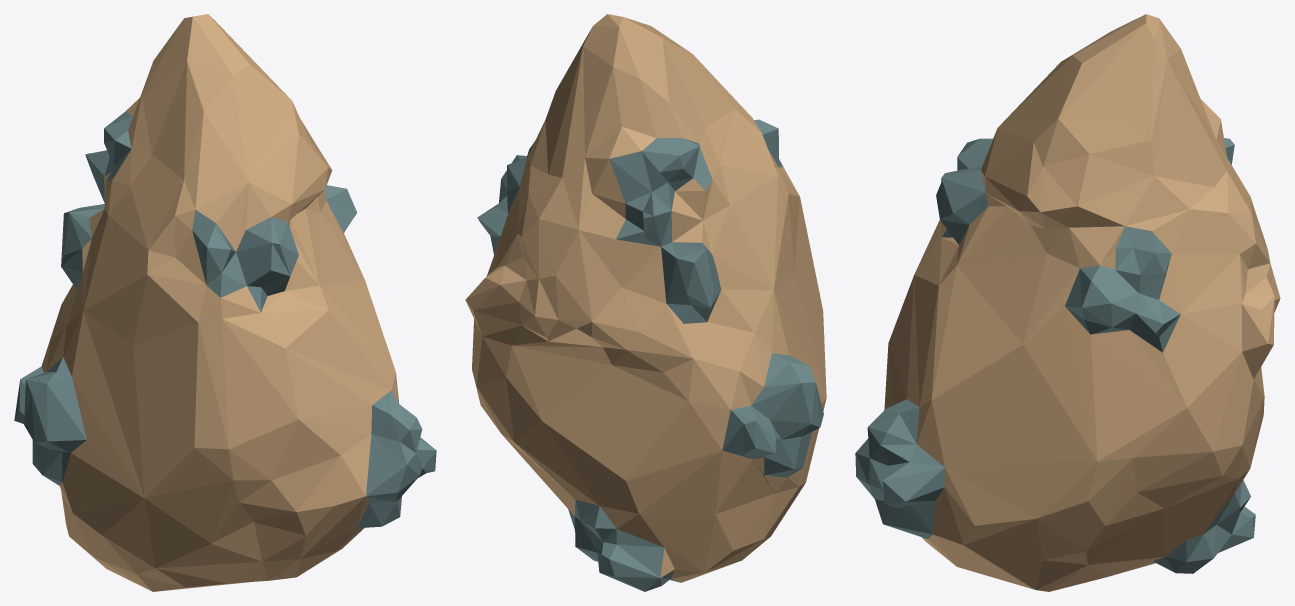
The model's file is SM_LP_MetalNode_3.fbx.
3 views of the same model, side by side, from view 1: azimuth 30°, elevation 25°; view 2: azimuth 150°, elevation 25°; view 3: azimuth 270°, elevation 25° (orthographic). The views are drawn at different scales.
Visible parts, largest first — view 1: SM_LP_MetalNode_3; view 2: SM_LP_MetalNode_3; view 3: SM_LP_MetalNode_3.
Boxes of the visible parts, x1,y1,x2,y2 form: SM_LP_MetalNode_3: (14, 14, 436, 591); SM_LP_MetalNode_3: (465, 14, 826, 591); SM_LP_MetalNode_3: (855, 14, 1280, 591).
Bounding box in the file's own units: 0.8617 × 1.4 × 0.9237.
